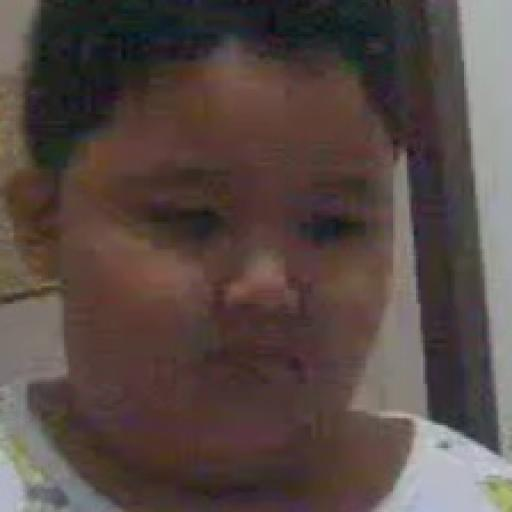Autism: (56, 22, 446, 503)
